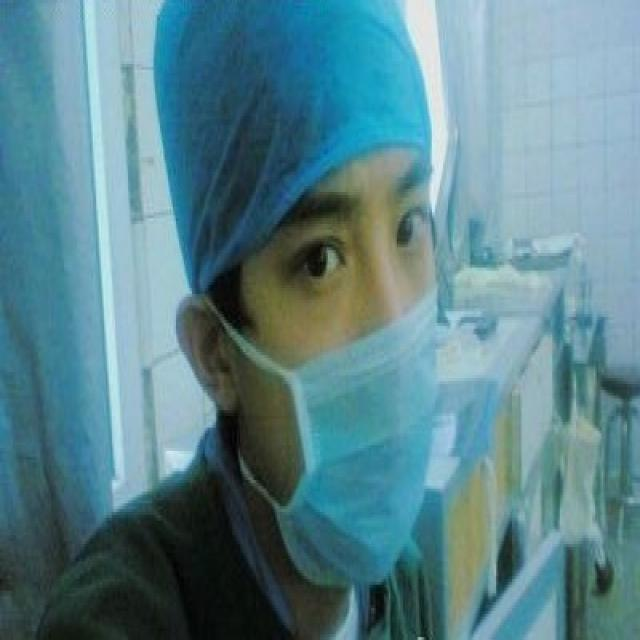mask: (244, 84, 438, 573)
